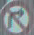Don't turn right: (0, 1, 30, 34)
